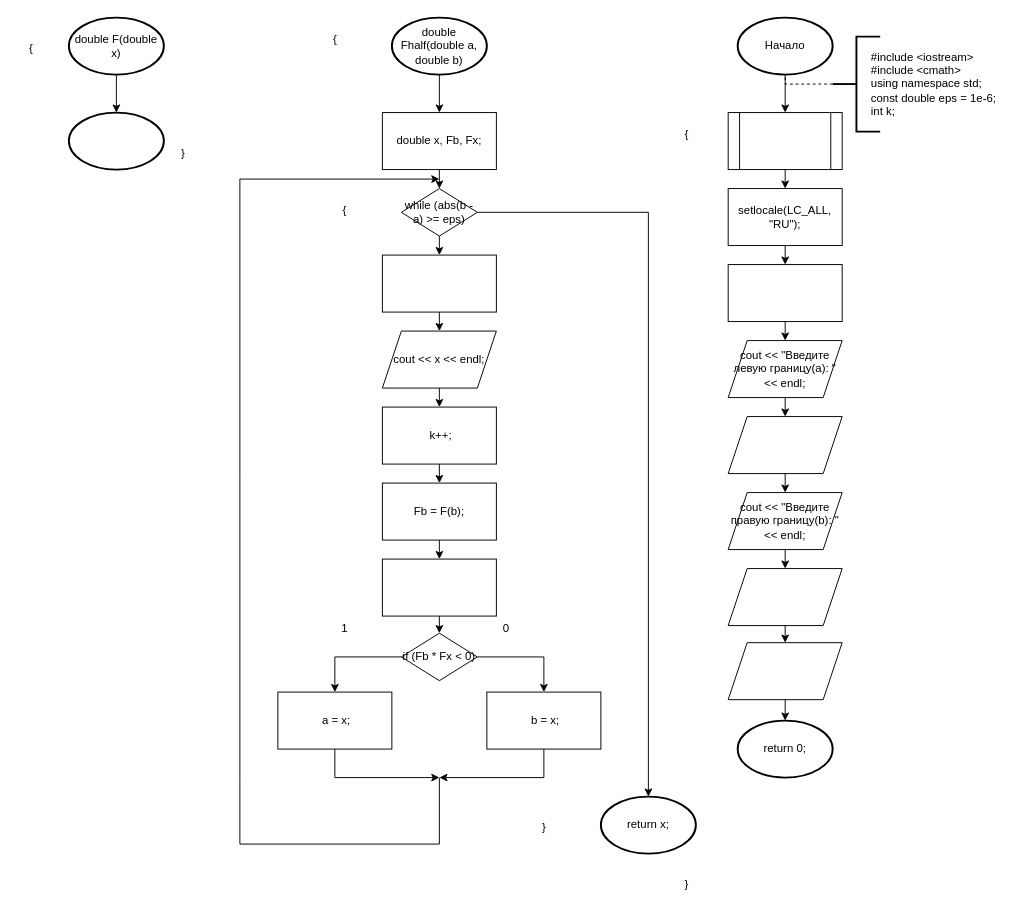
The diagram is 1025 pixels wide and 915 high, and some of its shapes have lost their labels. Each missing label, with the centre of its shape:
cin >> a;: [784,445]
cin >> b;: [784,597]
cout << "Корень: " << Fhalf(a,b) << endl << "Итераций: " << k << endl;: [784,671]
double a, b;: [784,293]
Fx = F(x);: [438,587]
int main (): [784,141]
return 0.25 * pow(x, 3) + x - 1.2502;: [115,140]
x = (a + b) / 2;: [438,283]
